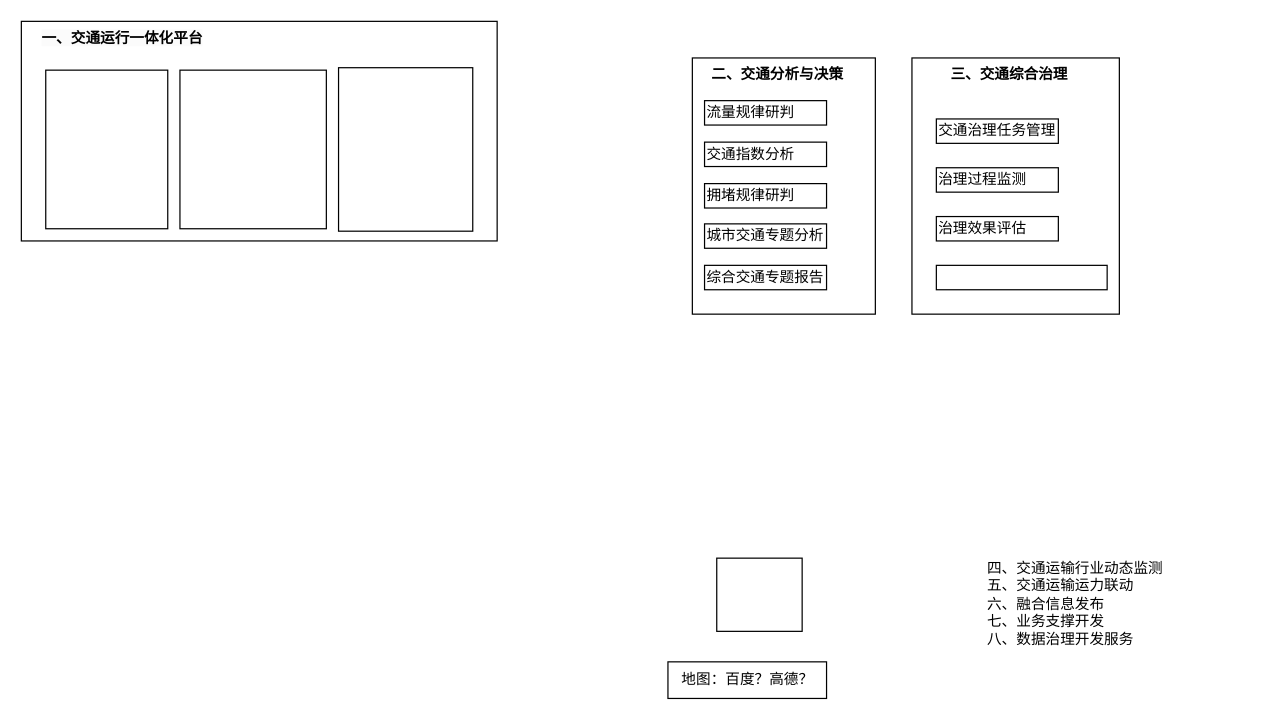
The diagram is 1287 pixels wide and 720 high, and some of its shapes have lost their labels. Here are the shapes that lost their labels. From the top down, the centre of each, then its label:
(106,149): 1、总体态势 交通总体态势展示 全域交通路况 交通运行态势 交通治理态势 交通服务态势
(252,149): 2、路网态势专题 实时拥堵态势 运行态势概览 拥堵趋势监控 拥堵排名监控 路网运行态势 出行态势监测
(405,148): 3、交通专题监测 实时拥堵态势 运行态势概览 拥堵趋势监控 拥堵排名监控 路网运行态势 出行态势监测
(1021,277): 交警交通基础设施管理
(759,594): 天壤平台 百度平台
